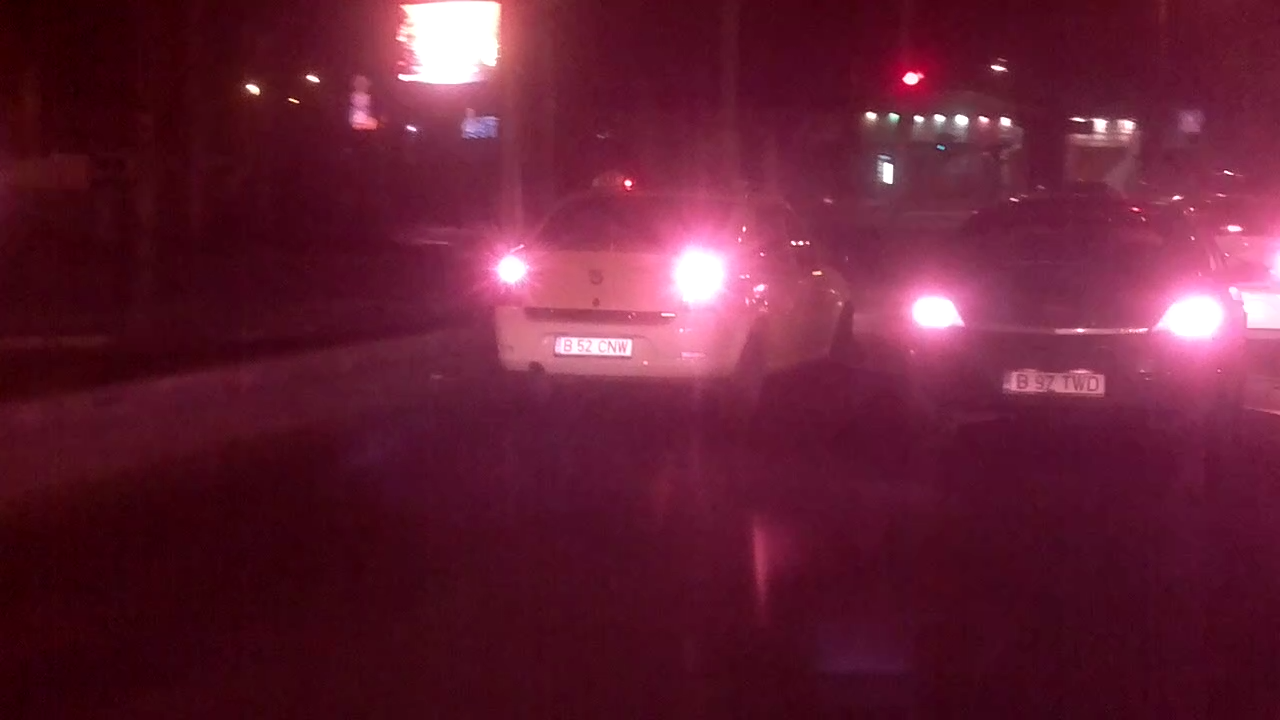license-plate: (998, 364, 1110, 399), (550, 333, 636, 360)
